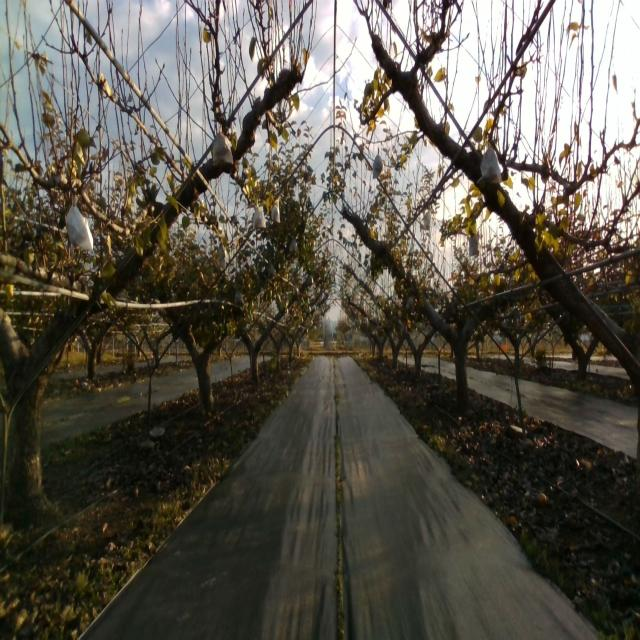pearbags: (66, 194, 94, 253), (477, 142, 502, 185), (212, 124, 234, 166), (214, 241, 228, 270), (372, 147, 383, 179), (253, 203, 266, 230), (271, 199, 281, 224), (468, 234, 479, 256)
